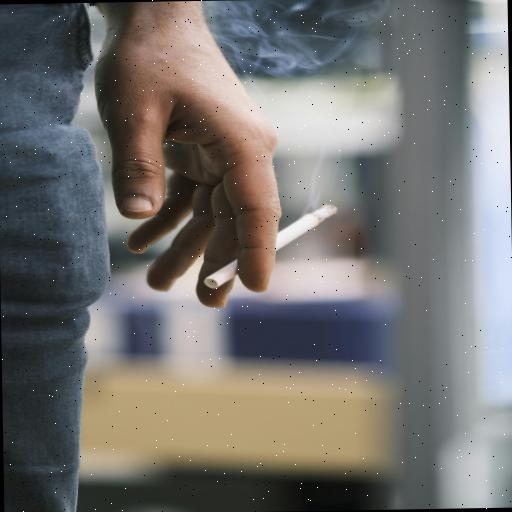terdeteksi pegang rokok: (110, 61, 352, 312)
